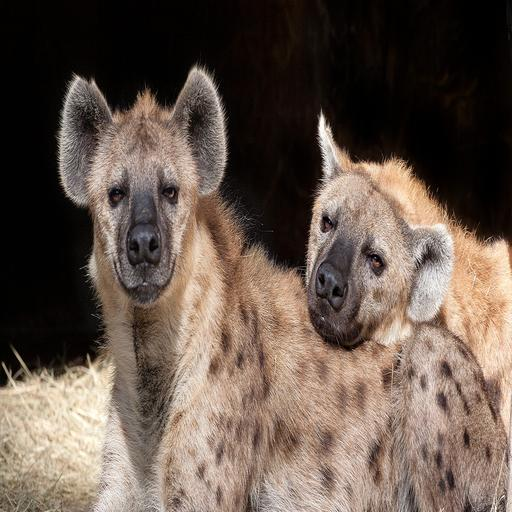Hyena: (60, 62, 512, 512), (306, 109, 512, 512)
